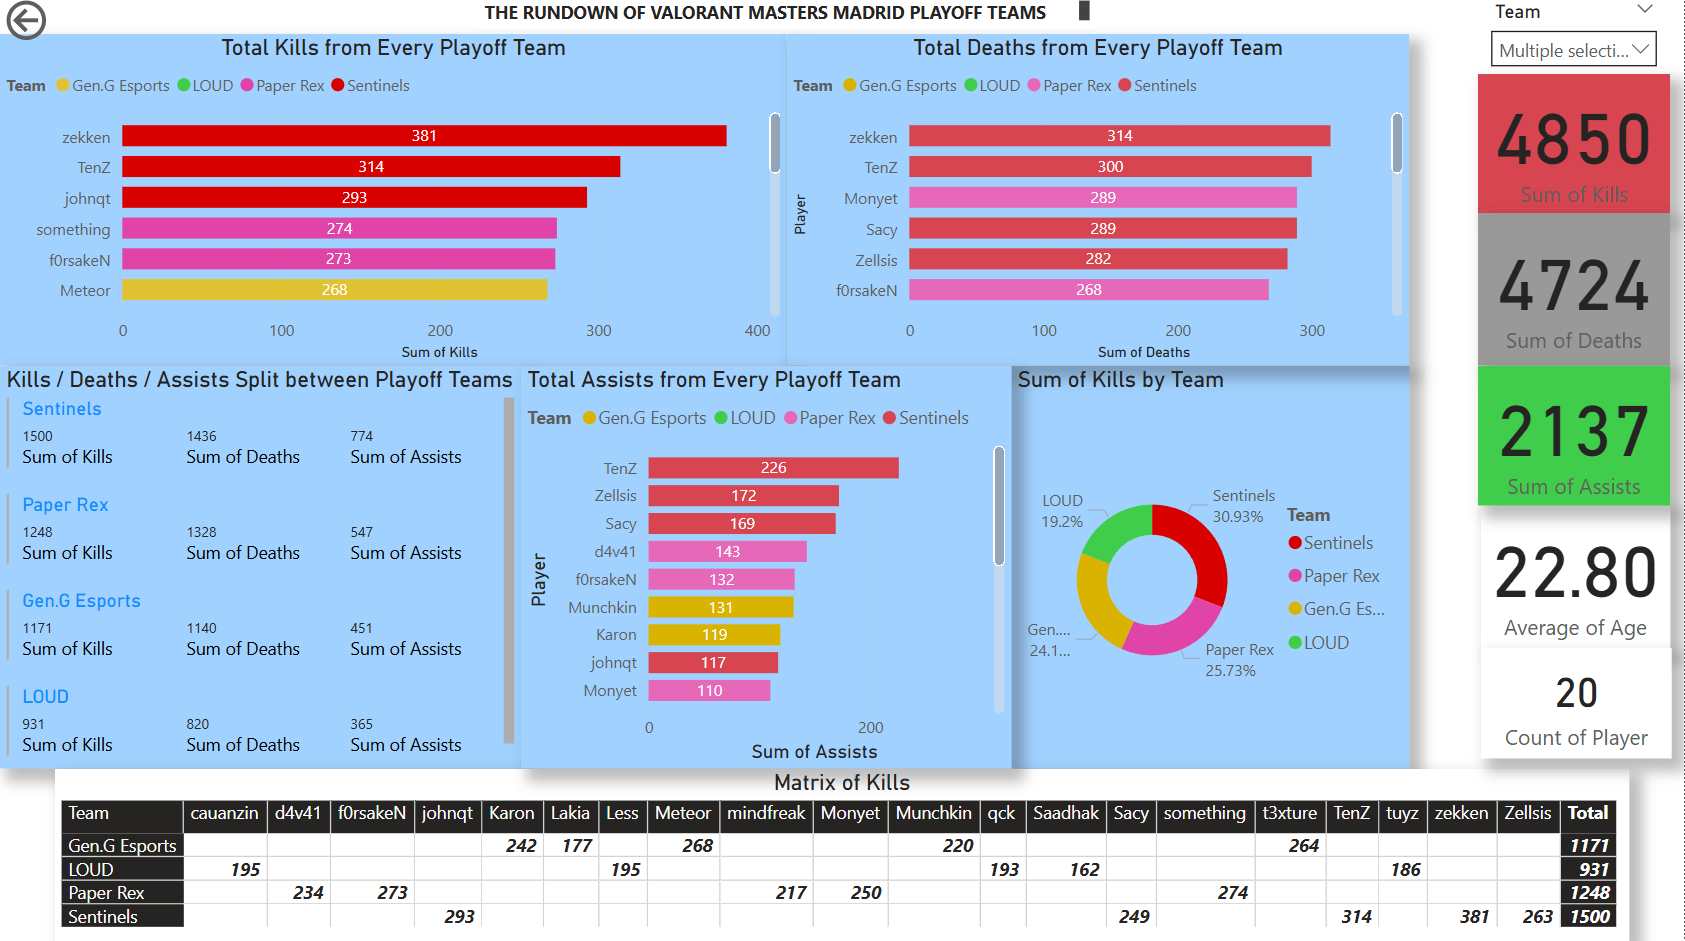

What the dashboard file says about the page in this screenshot:
{"tool":"powerbi","page":{"name":"Page 1","canvas":[1280,720],"ordinal":0},"visuals":[{"type":"barChart","title":"Total Kills from Every Playoff Team","fields":{"Category":["playerstats_cleaned1.Player"],"Y":["Sum(playerstats_cleaned1.Kills)"],"Series":["playerstats_cleaned1.Team"]},"box":[0,30.4,598.4,252.4],"z":0},{"type":"slicer","fields":{"Values":["playerstats_cleaned1.Team"]},"box":[1123.7,0,146,60.8],"z":1000},{"type":"donutChart","fields":{"Y":["Sum(playerstats_cleaned1.Kills)"],"Category":["playerstats_cleaned1.Team"]},"box":[768.7,282.8,302.6,306.4],"z":2000},{"type":"actionButton","box":[0,0,100,40],"z":3000},{"type":"multiRowCard","title":"Kills / Deaths / Assists Split between Playoff Teams","fields":{"Values":["Sum(playerstats_cleaned1.Kills)","playerstats_cleaned1.Team","Sum(playerstats_cleaned1.Deaths)","Sum(playerstats_cleaned1.Assists)"]},"box":[0,282.8,396.1,306.4],"z":4000},{"type":"pivotTable","title":"Matrix of Kills","fields":{"Values":["Sum(playerstats_cleaned1.Kills)"],"Rows":["playerstats_cleaned1.Team"],"Columns":["playerstats_cleaned1.Player"]},"box":[41.8,589.2,1196.7,130.8],"z":5000},{"type":"card","fields":{"Values":["Sum(playerstats_cleaned1.Kills)"]},"box":[1123.7,60.8,146,105.7],"z":6000},{"type":"card","fields":{"Values":["Sum(playerstats_cleaned1.Deaths)"]},"box":[1123.7,166.5,146,116.3],"z":7000},{"type":"card","fields":{"Values":["Avg(playerstats_cleaned1.Age)"]},"box":[1126,388.5,143.7,108.7],"z":8000},{"type":"card","fields":{"Values":["Sum(playerstats_cleaned1.Assists)"]},"box":[1123.7,282.8,146,105.7],"z":9000},{"type":"barChart","title":"Total Deaths from Every Playoff Team","fields":{"Y":["Sum(playerstats_cleaned1.Deaths)"],"Category":["playerstats_cleaned1.Player"],"Series":["playerstats_cleaned1.Team"]},"box":[598.4,30.4,472.9,252.4],"z":10000},{"type":"card","fields":{"Values":["Count(playerstats_cleaned1.Player)"]},"box":[1126,497.2,145.2,83.6],"z":11000},{"type":"textbox","box":[363.4,0,469.9,25.9],"z":12000},{"type":"barChart","title":"Total Assists from Every Playoff Team","fields":{"Y":["Sum(playerstats_cleaned1.Assists)"],"Category":["playerstats_cleaned1.Player"],"Series":["playerstats_cleaned1.Team"]},"box":[396.1,282.8,372.5,306.4],"z":12001}]}

Visuals, with their boxes on the page's 1280x720 design canvas (x1, y1, x2, y2). These are canvas units, not pixel positions in the 1685x941 screenshot, which may show the page scaled, cropped or inside an application window:
"Total Kills from Every Playoff Team" barChart: box=[0, 30, 598, 283]
slicer - playerstats_cleaned1.Team: box=[1124, 0, 1270, 61]
donutChart - Sum(playerstats_cleaned1.Kills) x playerstats_cleaned1.Team: box=[769, 283, 1071, 589]
actionButton: box=[0, 0, 100, 40]
"Kills / Deaths / Assists Split between Playoff Teams" multiRowCard: box=[0, 283, 396, 589]
"Matrix of Kills" pivotTable: box=[42, 589, 1238, 720]
card - Sum(playerstats_cleaned1.Kills): box=[1124, 61, 1270, 166]
card - Sum(playerstats_cleaned1.Deaths): box=[1124, 166, 1270, 283]
card - Avg(playerstats_cleaned1.Age): box=[1126, 388, 1270, 497]
card - Sum(playerstats_cleaned1.Assists): box=[1124, 283, 1270, 388]
"Total Deaths from Every Playoff Team" barChart: box=[598, 30, 1071, 283]
card - Count(playerstats_cleaned1.Player): box=[1126, 497, 1271, 581]
textbox: box=[363, 0, 833, 26]
"Total Assists from Every Playoff Team" barChart: box=[396, 283, 769, 589]
